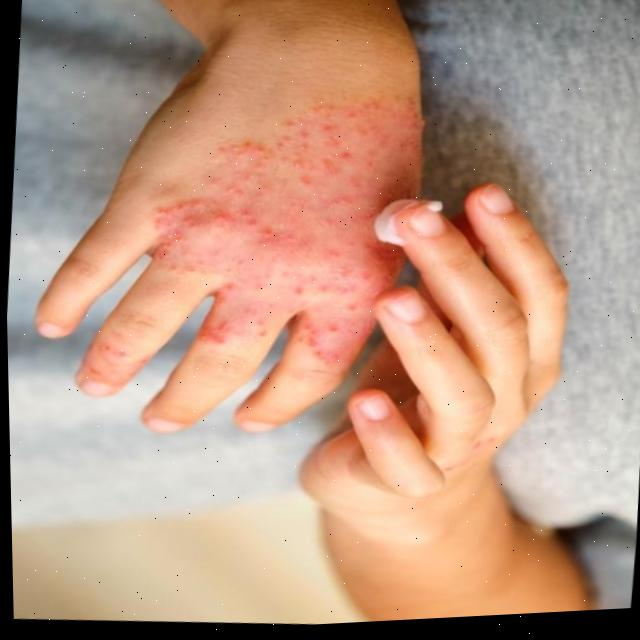Eczema: (167, 119, 389, 362)
